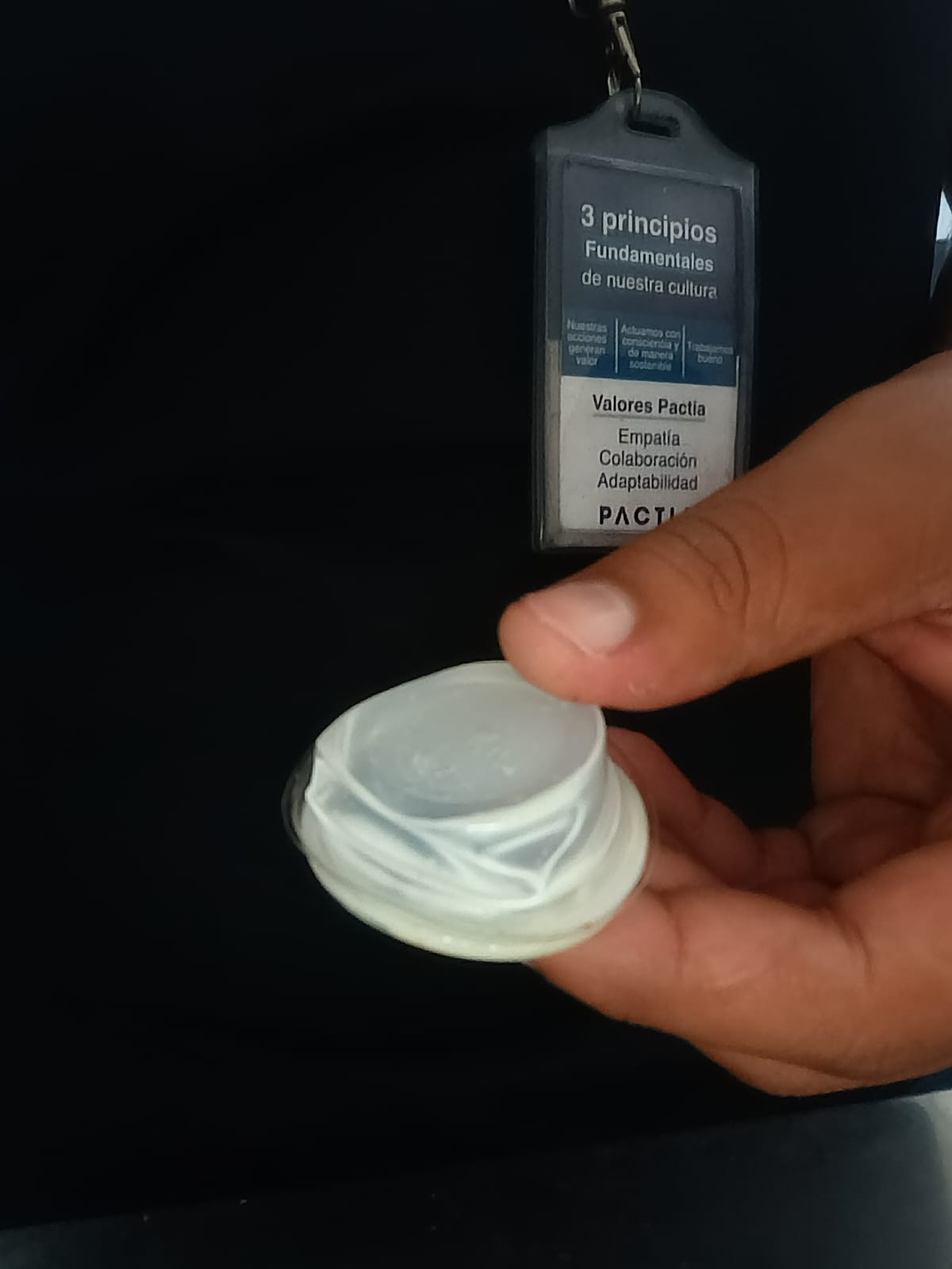Ordinario: (289, 660, 653, 965)
